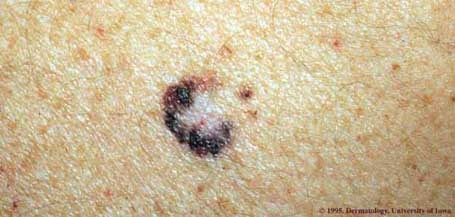melanoma: (132, 51, 275, 164)
